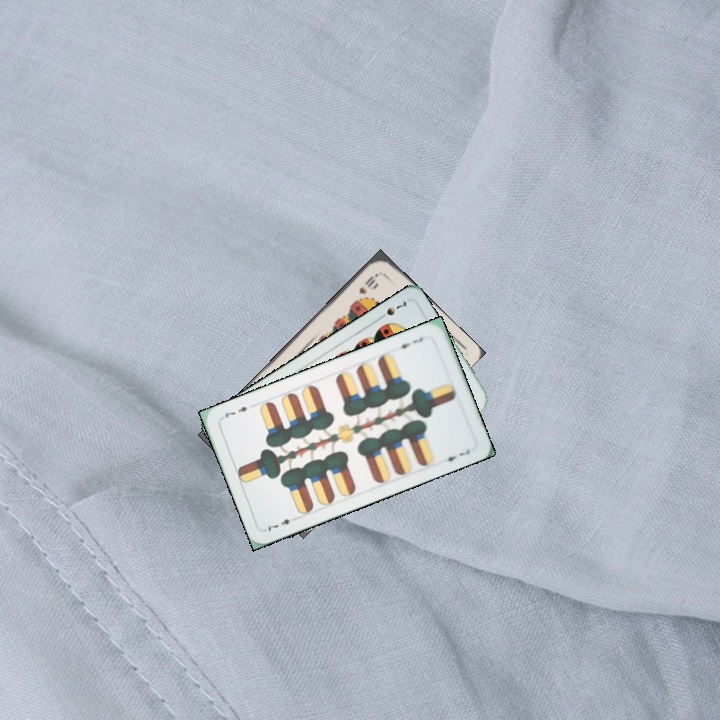E7: (261, 512, 300, 534), (392, 333, 426, 351)
S10: (355, 269, 381, 297)
S7: (373, 296, 409, 323)
